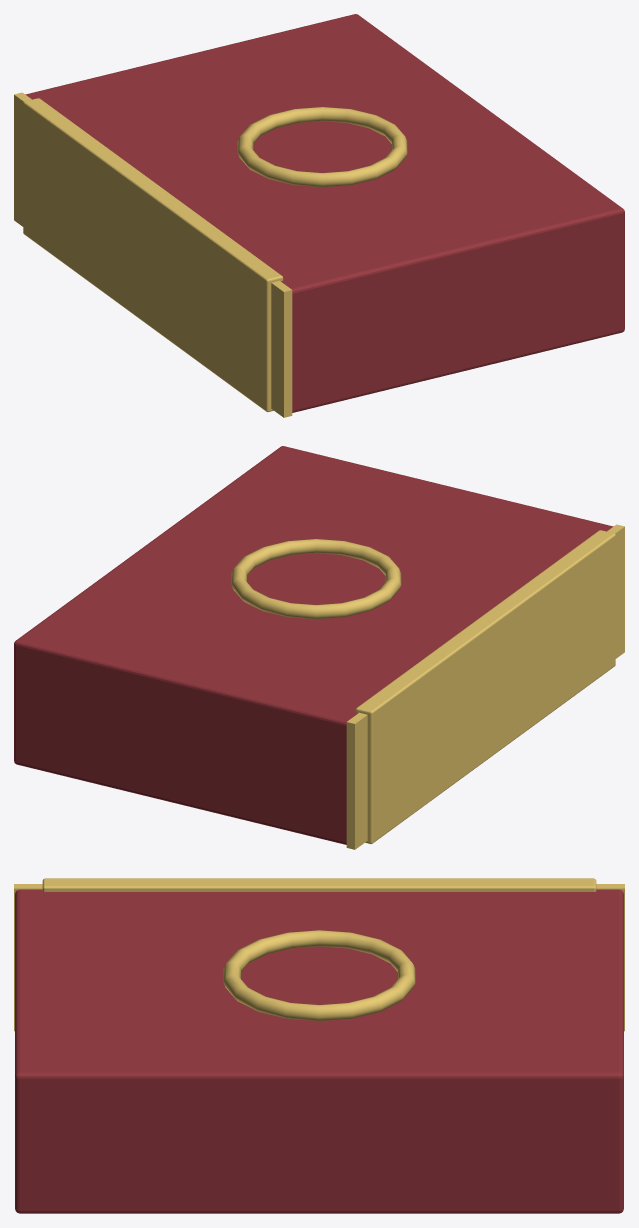
Rendered from grimoire_giant.glb.
3 views of the same model, one above another, from view 1: azimuth 30°, elevation 25°; view 2: azimuth 150°, elevation 25°; view 3: azimuth 270°, elevation 25° (orthographic). The views are drawn at different scales.
Parts seen in each view (by area): view 1: GD_grimoire_giant__m0, GD_grimoire_giant__m2; view 2: GD_grimoire_giant__m0, GD_grimoire_giant__m2; view 3: GD_grimoire_giant__m0, GD_grimoire_giant__m2.
Boxes of the visible parts, x1,y1,x2,y2 form: GD_grimoire_giant__m0: (25, 14, 624, 412); GD_grimoire_giant__m2: (14, 92, 407, 417); GD_grimoire_giant__m0: (14, 446, 613, 844); GD_grimoire_giant__m2: (231, 524, 624, 849); GD_grimoire_giant__m0: (15, 889, 623, 1213); GD_grimoire_giant__m2: (14, 878, 624, 1031).
Size of the model in its own units: 0.41 by 0.158 by 0.552.
